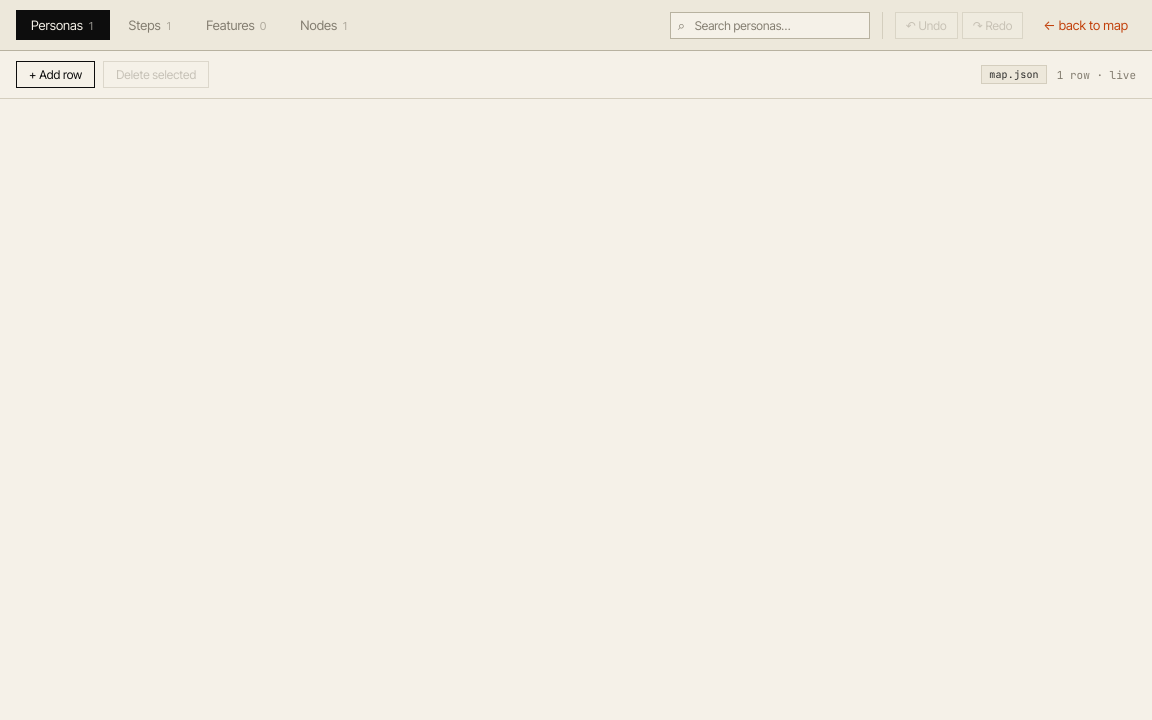
Test: DatabasePanel undo history survives live commits › keeps Undo enabled after an edit commits (rawSources identity change must not reset history)
Expected: the button "↶ Undo" is disabled, 895,12 -> 958,38
// "+ Add row" routes through commitEntity → commitWithHistory → record + onCommit.
Click the button "+ Add row" at (56, 74), box 16,61 -> 95,88
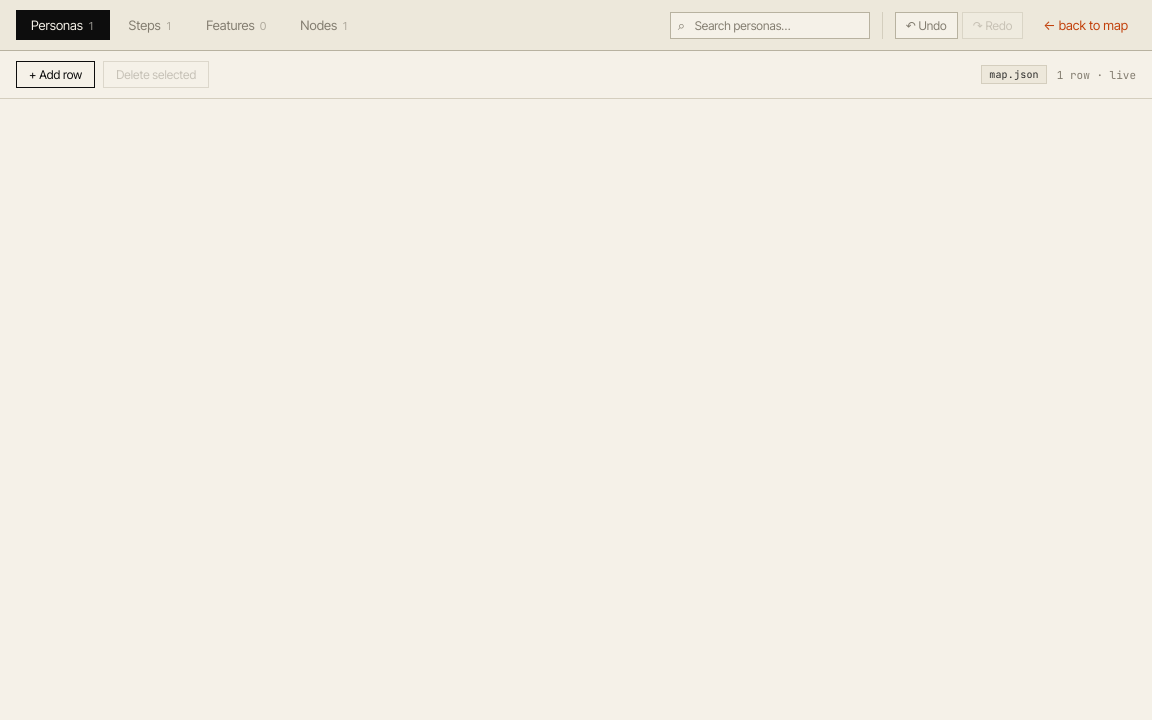
Result: the button "↶ Undo" is enabled at 895,12 -> 958,38
